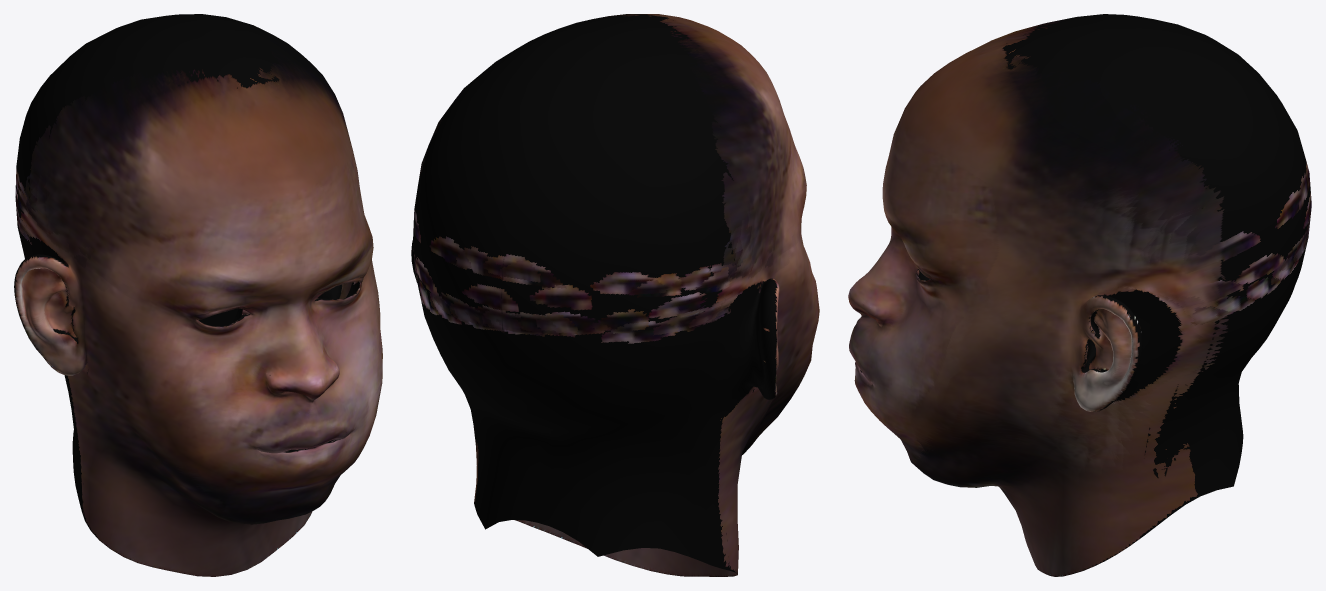
Rendered from Puff.obj.
3 views of the same model, side by side, from view 1: azimuth 30°, elevation 25°; view 2: azimuth 150°, elevation 25°; view 3: azimuth 270°, elevation 25° (orthographic). The views are drawn at different scales.
Size of the model in its own units: 191 by 280 by 223.
